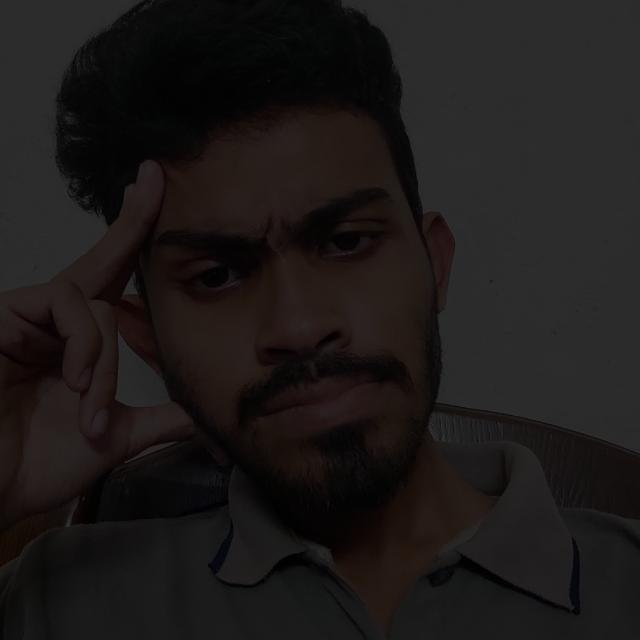Angry: (87, 102, 509, 520)
